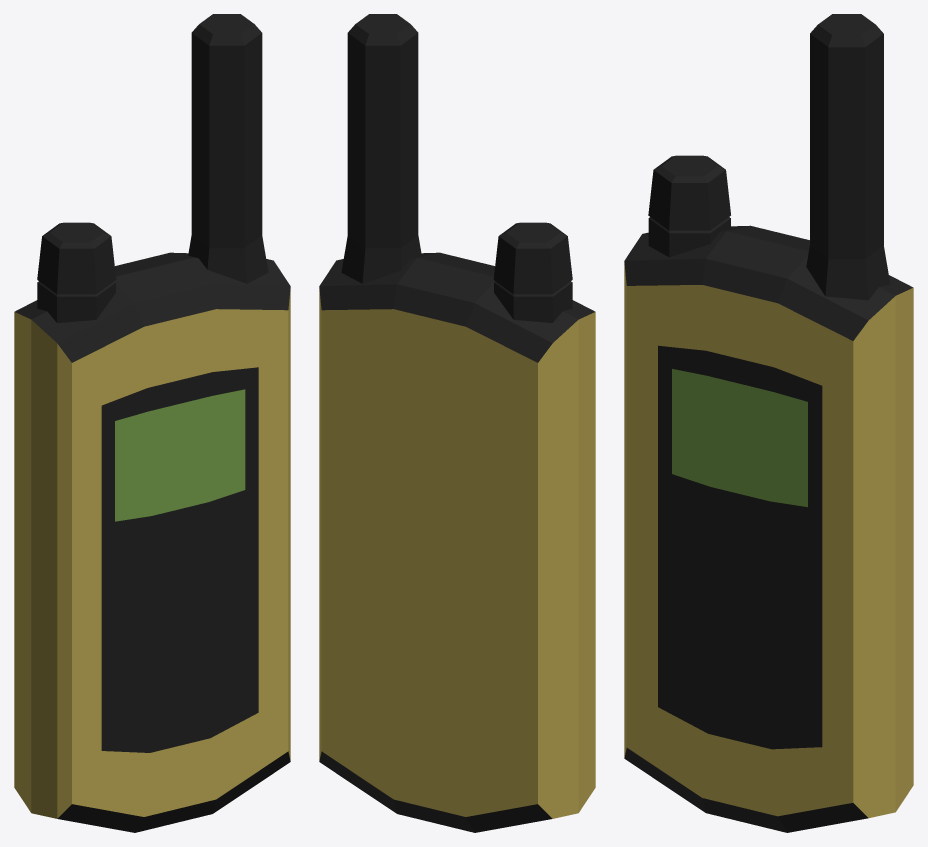
Rendered from Radio_vc.fbx.
3 renders of one model, left to right at view 1: azimuth 30°, elevation 25°; view 2: azimuth 150°, elevation 25°; view 3: azimuth 330°, elevation 25°, orthographic. The views are drawn at different scales.
Parts seen in each view (by area): view 1: Radio_vc; view 2: Radio_vc; view 3: Radio_vc.
Part boxes in pixels (x1=…): Radio_vc: x1=14, y1=14, x2=290, y2=832; Radio_vc: x1=319, y1=14, x2=595, y2=832; Radio_vc: x1=624, y1=14, x2=913, y2=832.
Bounding box in the file's own units: 7.29 × 22.29 × 2.88.
